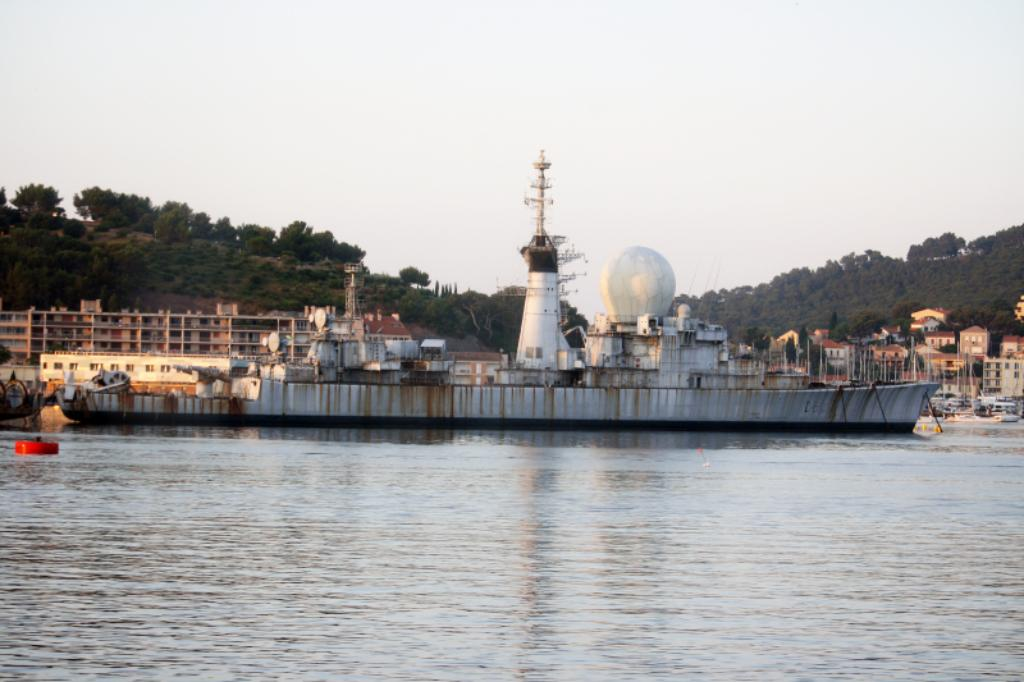Warship: (54, 146, 940, 436)
